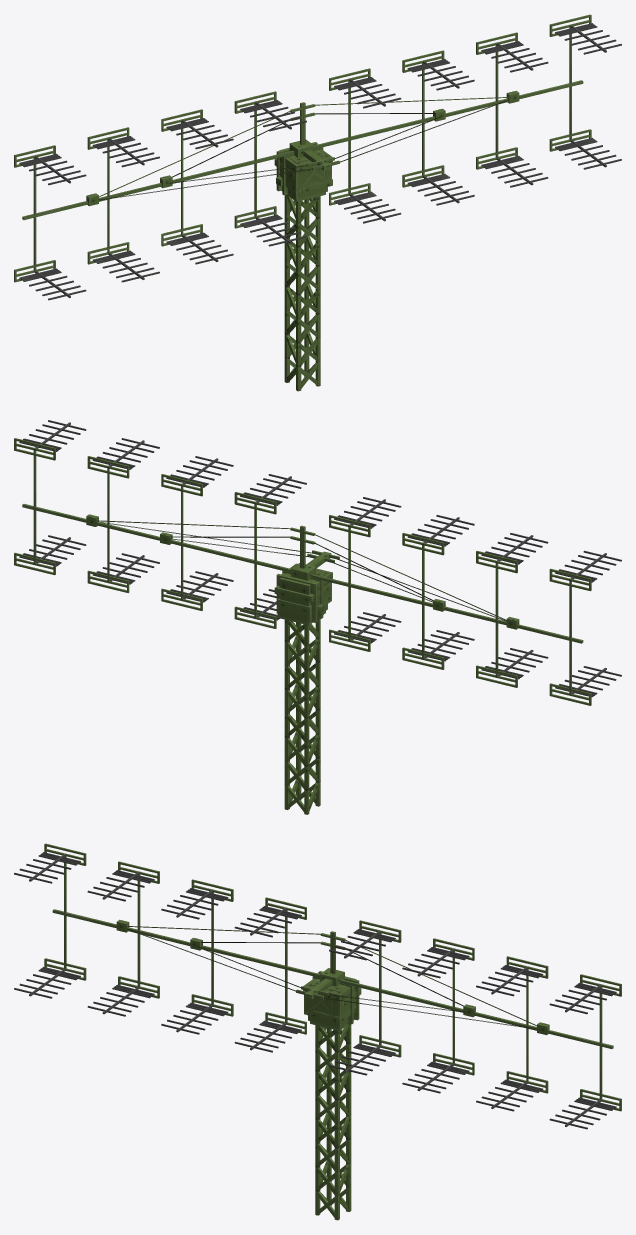
Rendered from radar_p18.obj.
3 renders of one model, top to bottom at view 1: azimuth 30°, elevation 25°; view 2: azimuth 150°, elevation 25°; view 3: azimuth 330°, elevation 25°, orthographic.
Visible parts, largest first — view 1: antenna, stolb; view 2: antenna, stolb; view 3: antenna, stolb.
Part boxes in pixels (box(x1,y1,x2,y2)): antenna: box(14, 14, 621, 300); stolb: box(274, 142, 332, 391); antenna: box(14, 420, 621, 705); stolb: box(274, 563, 332, 814); antenna: box(14, 843, 621, 1129); stolb: box(303, 971, 361, 1220).
Size of the model in its own units: 9.91 by 4.91 by 1.34.
